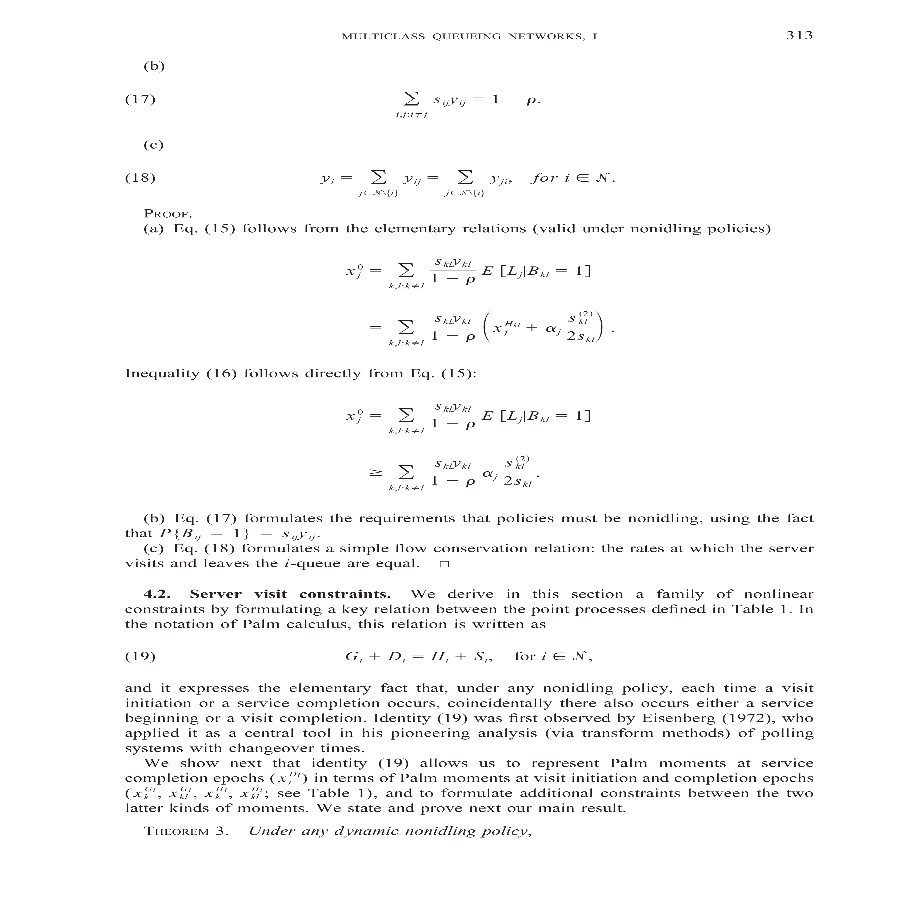eq: (343, 253, 607, 348), (342, 398, 600, 491), (314, 162, 612, 199), (389, 82, 543, 119), (341, 645, 588, 665)
